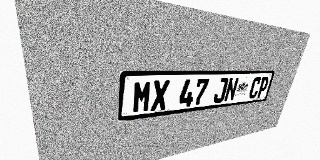4: (178, 79, 196, 108)
7: (192, 78, 209, 106)
C: (248, 77, 262, 99)
J: (212, 78, 229, 103)
M: (132, 80, 152, 114)
N: (223, 78, 239, 102)
P: (256, 77, 270, 98)
X: (150, 80, 170, 111)
